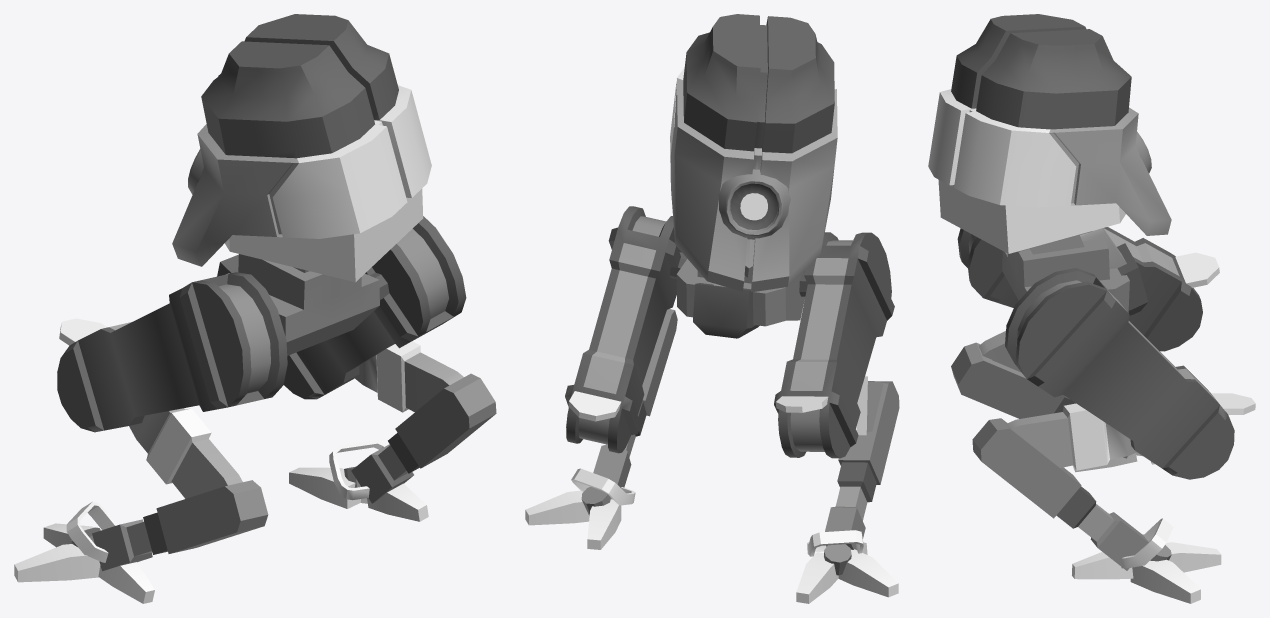
The model's file is wharf_gun.glb.
The picture shows the model from 3 angles, left to right: view 1: azimuth 30°, elevation 25°; view 2: azimuth 150°, elevation 25°; view 3: azimuth 270°, elevation 25°; orthographic projection. The views are drawn at different scales.
Visible parts, largest first — view 1: Body; view 2: Body; view 3: Body.
Boxes of the visible parts, box(x1,y1,x2,y2) form: Body: box(14, 14, 496, 603); Body: box(525, 14, 899, 603); Body: box(928, 14, 1255, 603).
Bounding box in the file's own units: 4.59 × 6 × 3.52.
Materials: 2 (1 with a texture image).
